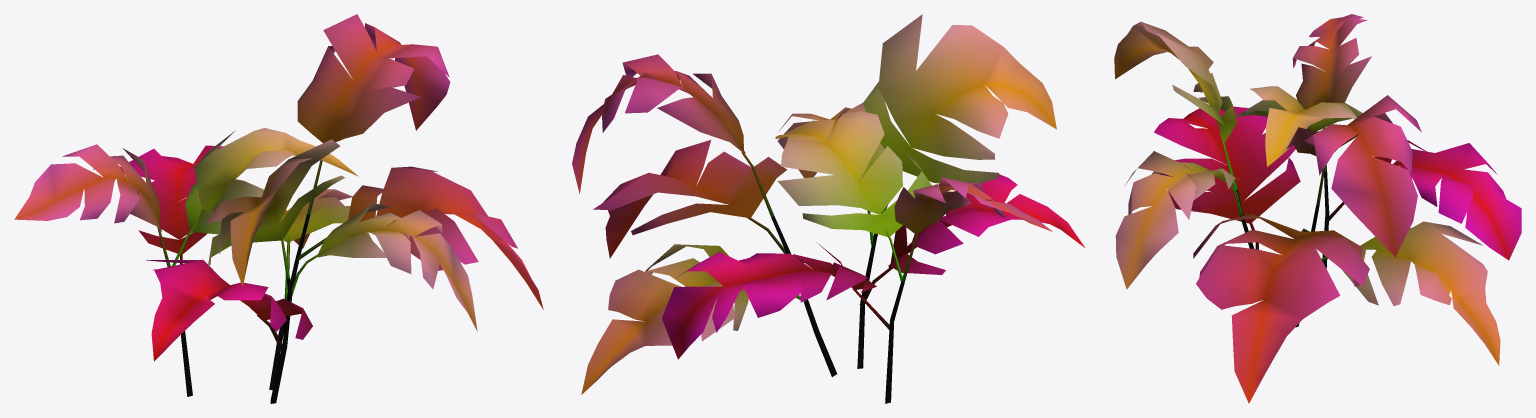
File: SM_EagleFern_M_01.fbx
3 renders of one model, left to right at view 1: azimuth 30°, elevation 25°; view 2: azimuth 150°, elevation 25°; view 3: azimuth 270°, elevation 25°, orthographic. The views are drawn at different scales.
Parts seen in each view (by area): view 1: SM_EagleFern_M_01_LOD0; view 2: SM_EagleFern_M_01_LOD0; view 3: SM_EagleFern_M_01_LOD0.
Part boxes in pixels (box(x1,y1,x2,y2)): SM_EagleFern_M_01_LOD0: box(14, 14, 543, 403); SM_EagleFern_M_01_LOD0: box(572, 14, 1085, 403); SM_EagleFern_M_01_LOD0: box(1114, 14, 1521, 403).
Size of the model in its own units: 156 by 122 by 94.83.
